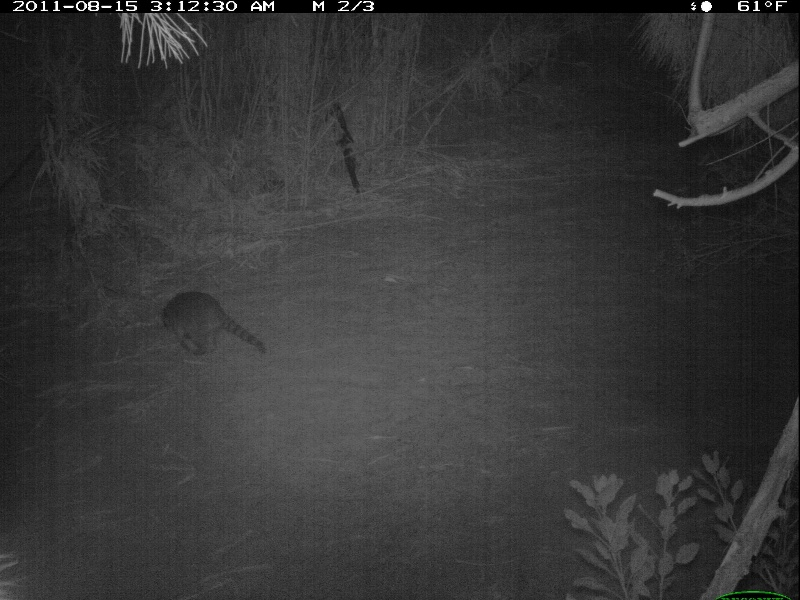raccoon: (158, 288, 269, 363)
